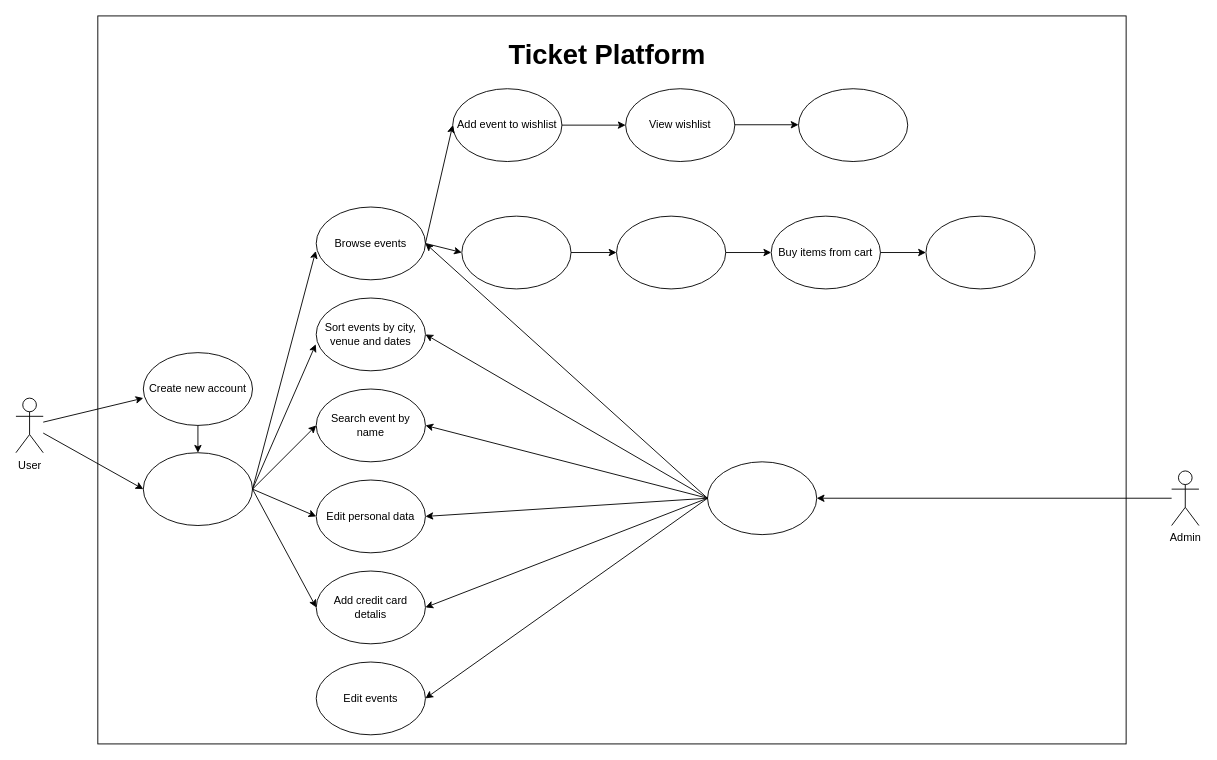
The diagram is 1217 pixels wide and 760 high, and some of its shapes have lost their labels. Here are the shapes that lost their labels. From the top down, the centre of each, then its label:
(x=853, y=125): Remove event from wishlist
(x=516, y=252): Add ticket to cart
(x=671, y=252): View cart
(x=980, y=252): Recieve confirmation email
(x=197, y=489): Login into user account
(x=762, y=498): Login into admin account
